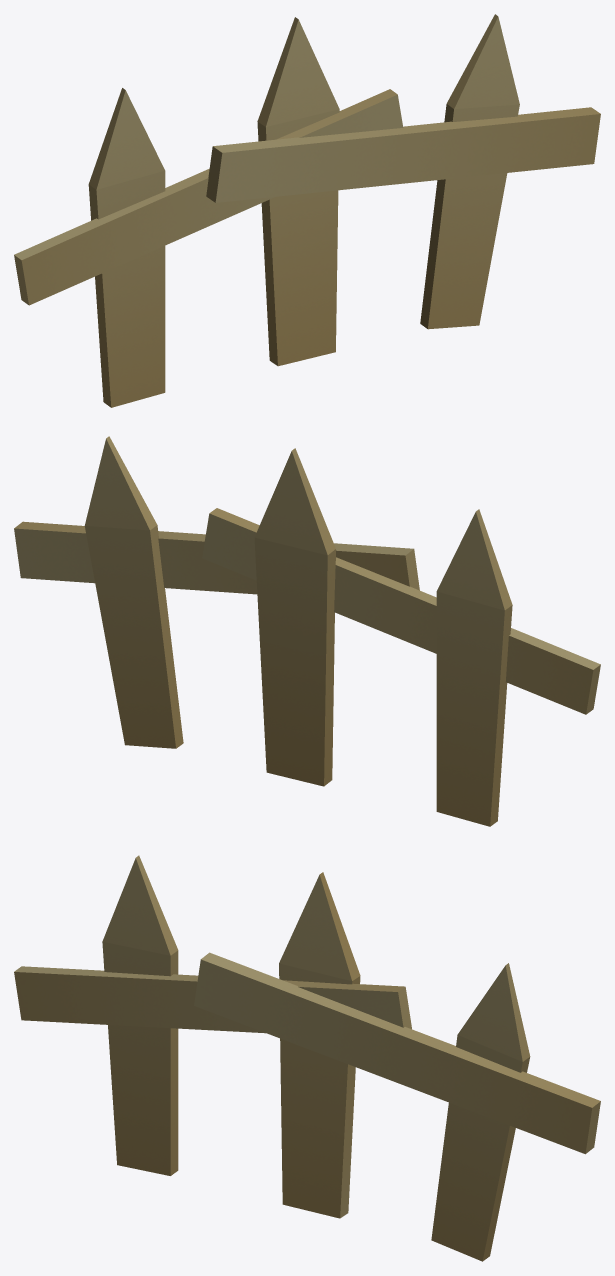
File: fence0.glb
The picture shows the model from 3 angles, top to bottom: view 1: azimuth 30°, elevation 25°; view 2: azimuth 150°, elevation 25°; view 3: azimuth 330°, elevation 25°; orthographic projection.
Visible parts, largest first — view 1: Fence; view 2: Fence; view 3: Fence.
Part boxes in pixels (box(x1,y1,x2,y2)): Fence: box(14, 14, 600, 407); Fence: box(14, 436, 600, 826); Fence: box(14, 855, 600, 1261).
Size of the model in its own units: 2.09 by 1.18 by 0.1623.
1 material, 1 textured.
